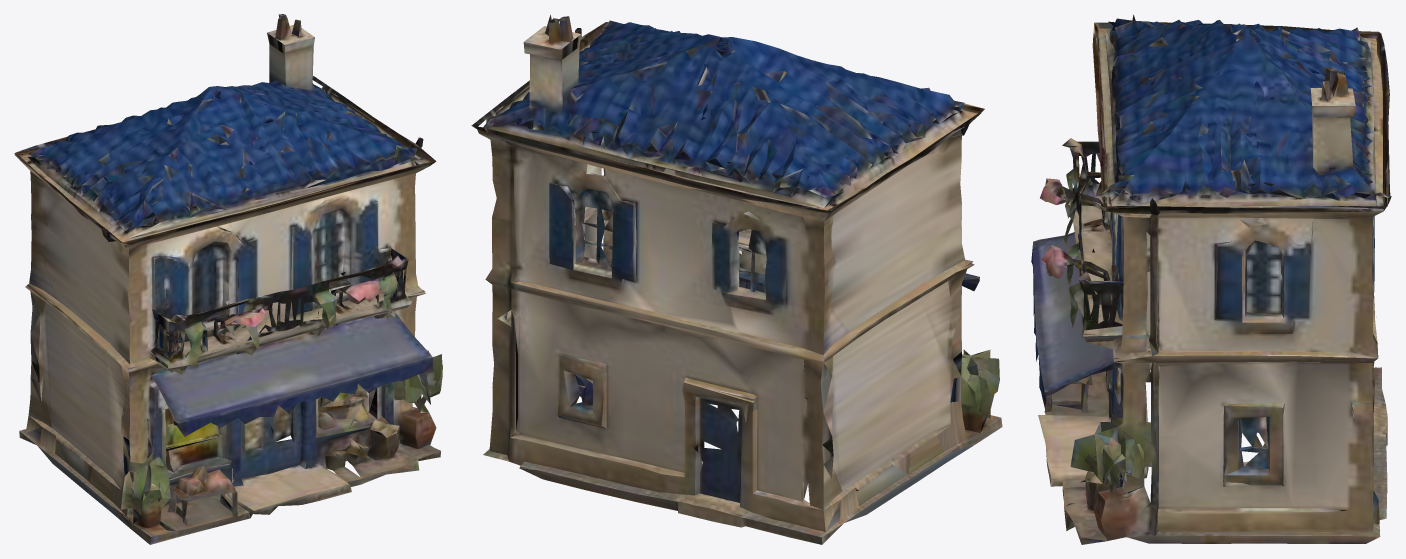
Rendered from shop_2.glb.
The picture shows the model from 3 angles, left to right: view 1: azimuth 30°, elevation 25°; view 2: azimuth 150°, elevation 25°; view 3: azimuth 270°, elevation 25°; orthographic projection. The views are drawn at different scales.
Parts seen in each view (by area): view 1: harbor__shop_2__neural_lod; view 2: harbor__shop_2__neural_lod; view 3: harbor__shop_2__neural_lod.
Boxes of the visible parts, <box> form: harbor__shop_2__neural_lod: <box>14,14,442,544</box>; harbor__shop_2__neural_lod: <box>471,14,1002,544</box>; harbor__shop_2__neural_lod: <box>1031,14,1391,544</box>.
Bounding box in the file's own units: 0.9261 × 0.9995 × 0.7297.
1 material, 1 textured.
